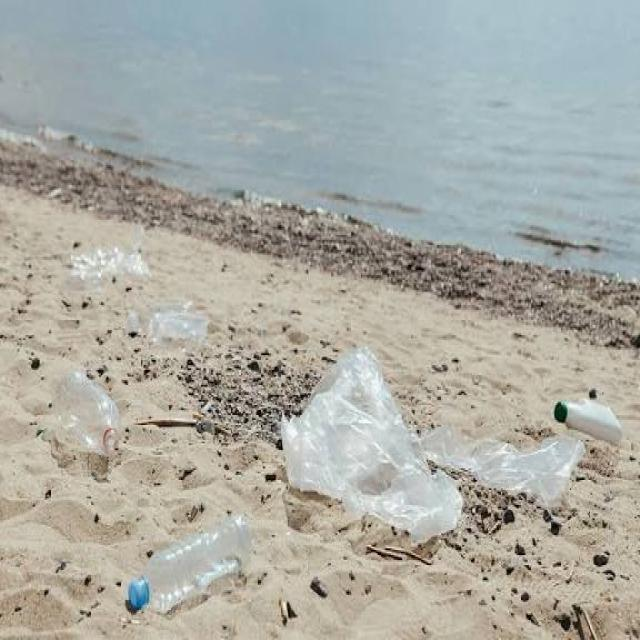plastic: (237, 314, 591, 556), (105, 492, 293, 640), (5, 324, 142, 474), (112, 264, 229, 377), (52, 217, 166, 307), (546, 376, 638, 479)
